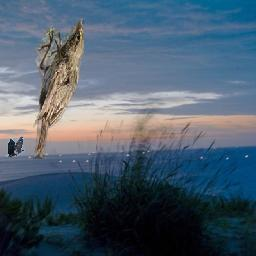Crow: (7, 135, 25, 157)
Sparrow: (34, 19, 85, 160)
